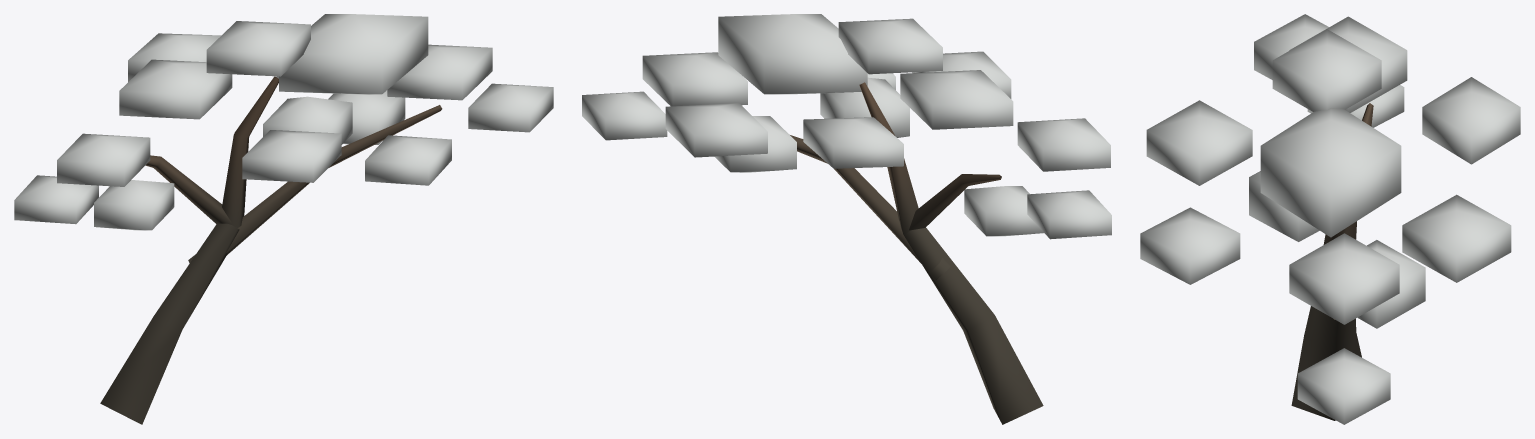
3 renders of one model, left to right at view 1: azimuth 30°, elevation 25°; view 2: azimuth 150°, elevation 25°; view 3: azimuth 270°, elevation 25°, orthographic. The views are drawn at different scales.
Parts seen in each view (by area): view 1: crown, trunk; view 2: crown, trunk; view 3: crown, trunk.
Boxes of the visible parts, left/top/right/bottom form: crown: left=14, top=14, right=553, bottom=230; trunk: left=100, top=76, right=442, bottom=424; crown: left=582, top=14, right=1111, bottom=239; trunk: left=790, top=82, right=1043, bottom=424; crown: left=1140, top=14, right=1520, bottom=424; trunk: left=1291, top=103, right=1373, bottom=420.
Size of the model in its own units: 11.61 by 7.43 by 5.83.
